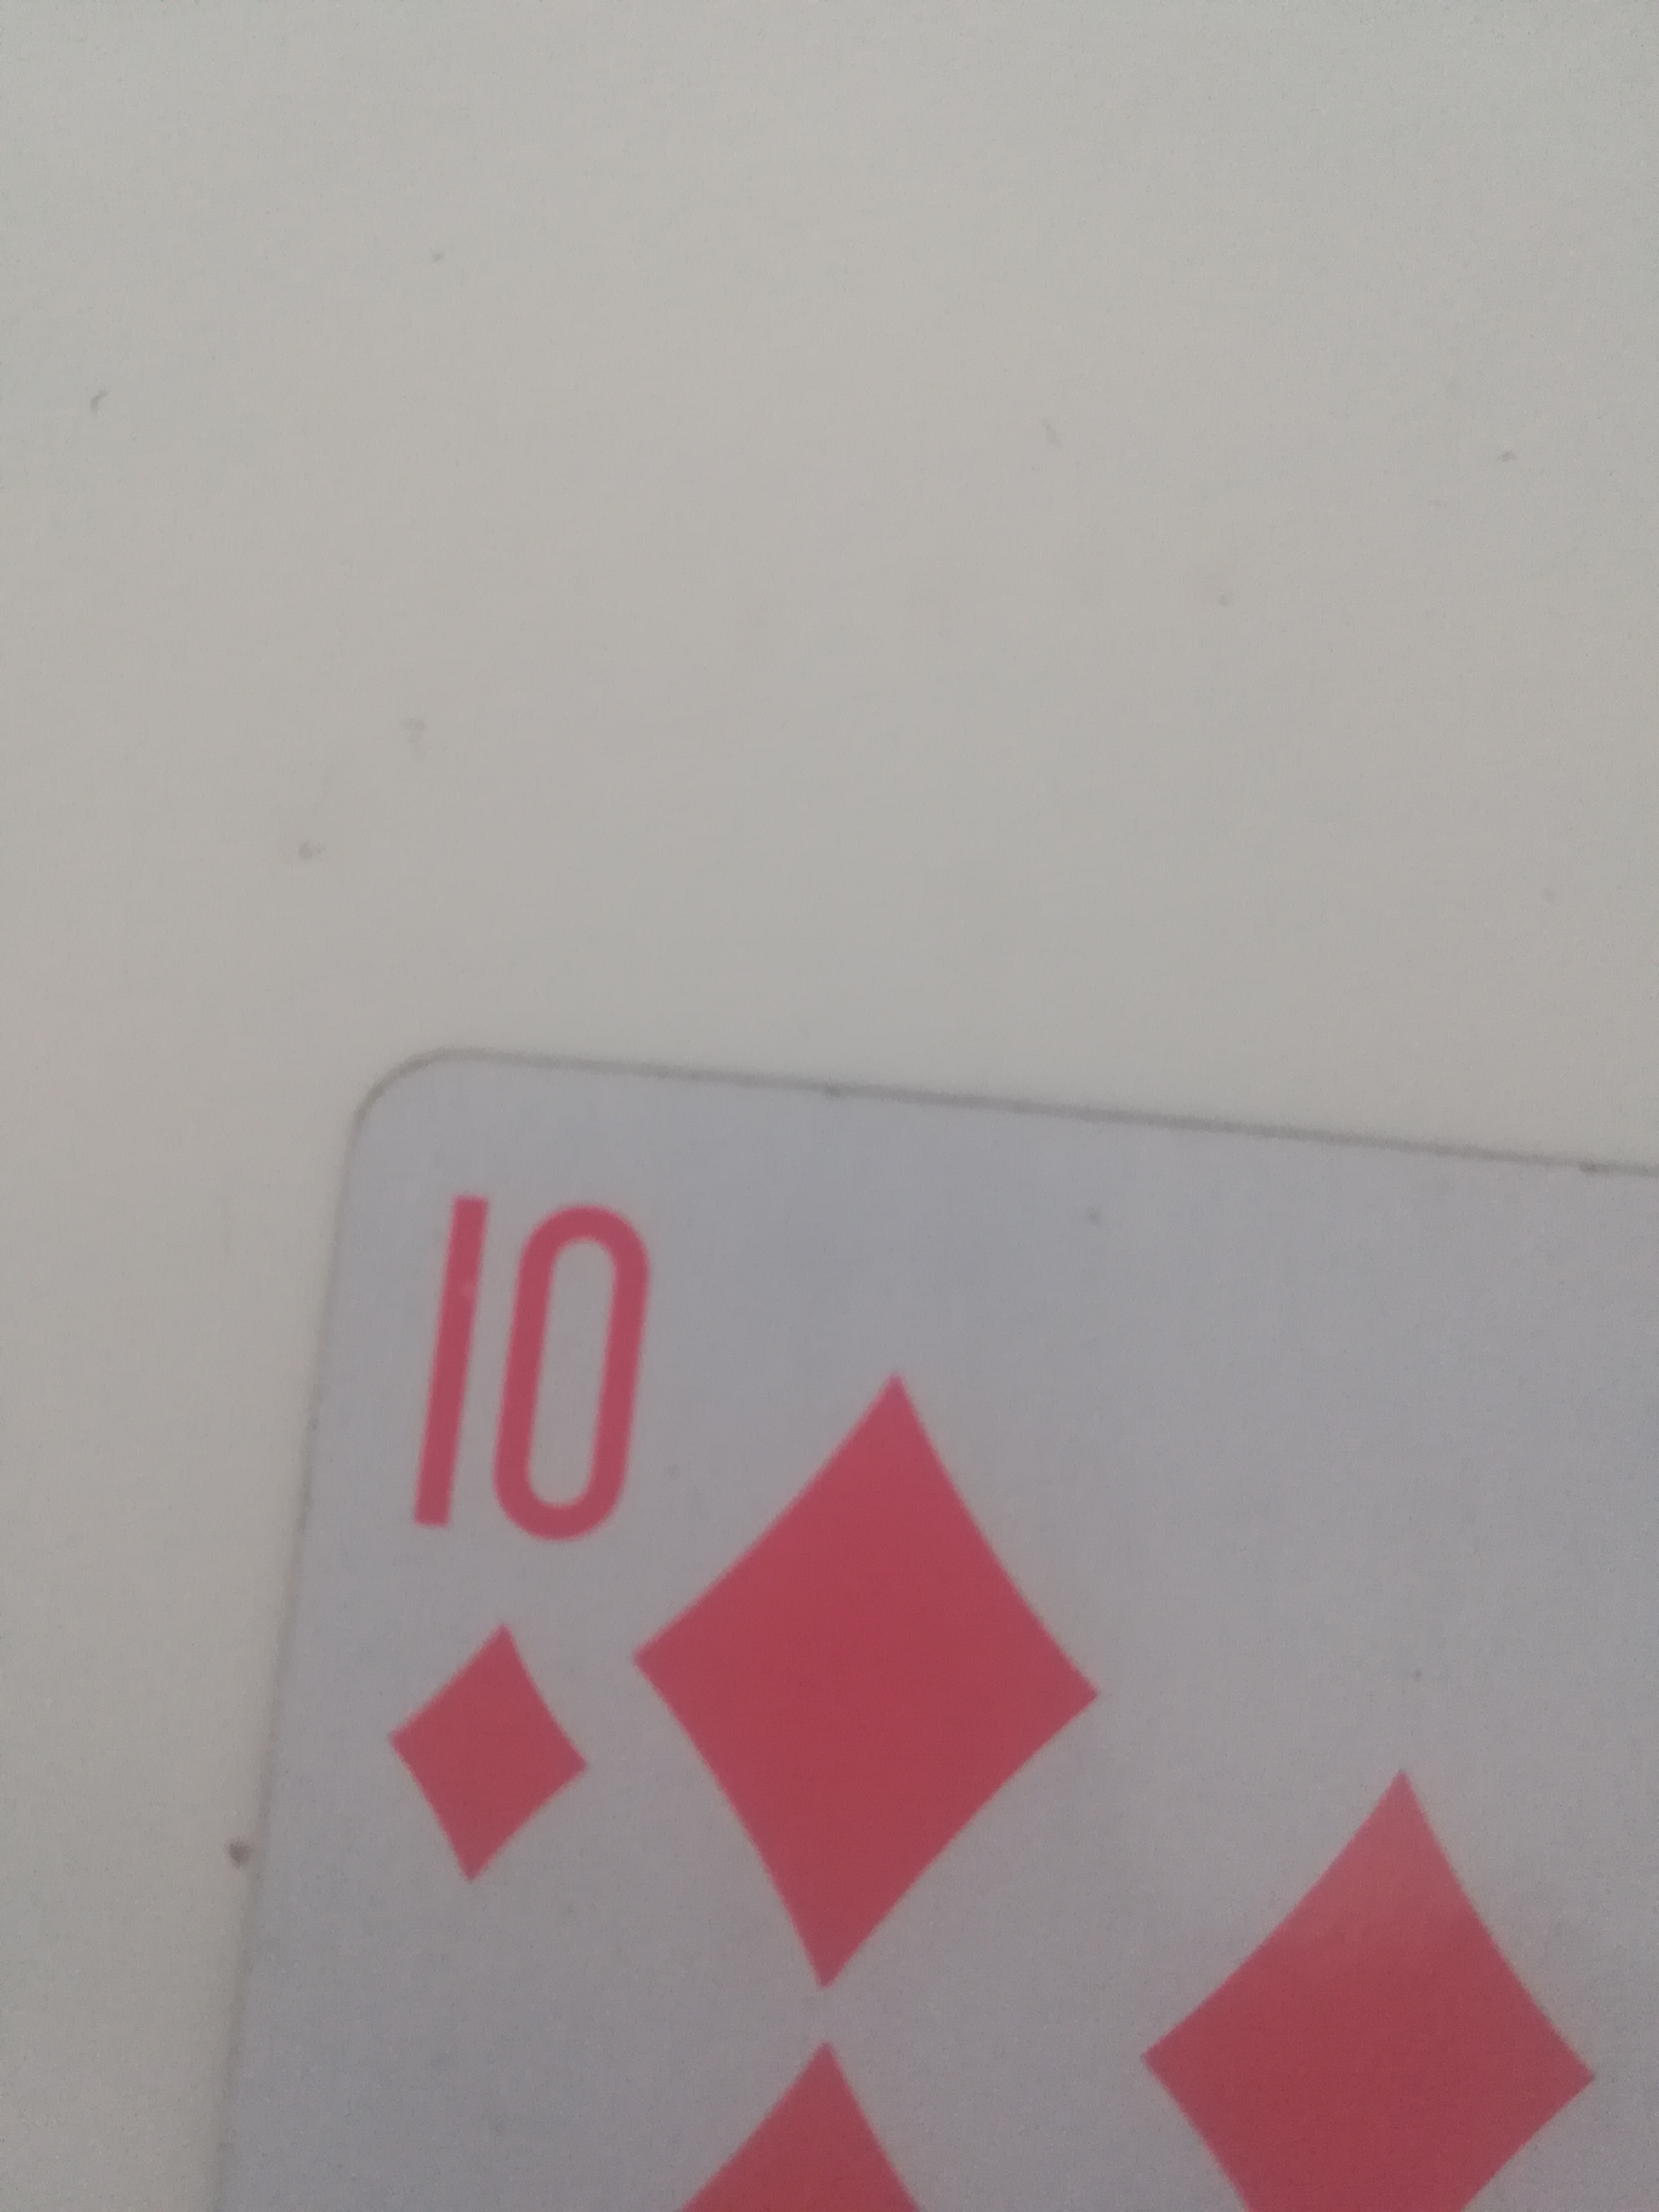10D: (188, 1061, 1643, 2212)
